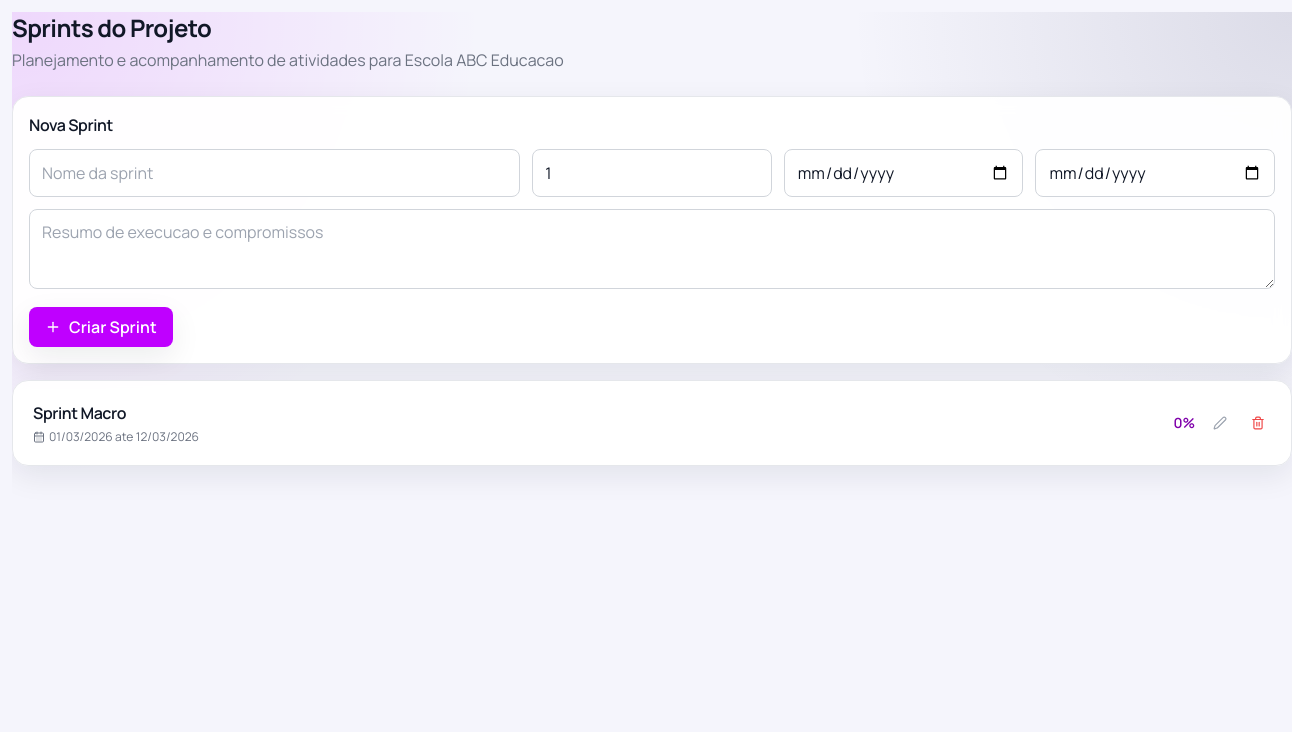
Sprints — visao macro › cria nova sprint ao preencher formulario (usuario interno)
The width and height of the screenshot is (1292, 732).
Type "Sprint Q2" into the field with placeholder "Nome da sprint" at (275, 173), box x1=29 y1=149 x2=520 y2=197
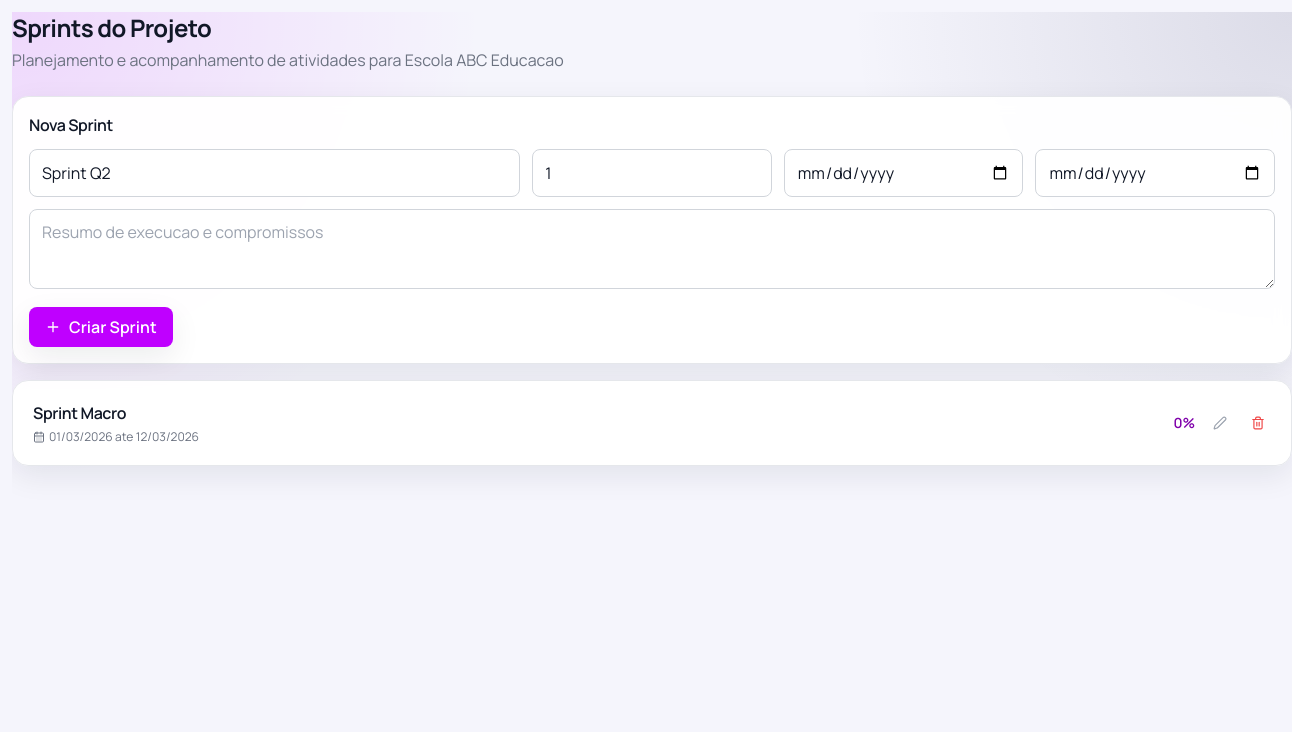
Click the button "Criar Sprint" at (101, 327), box x1=29 y1=307 x2=173 y2=347
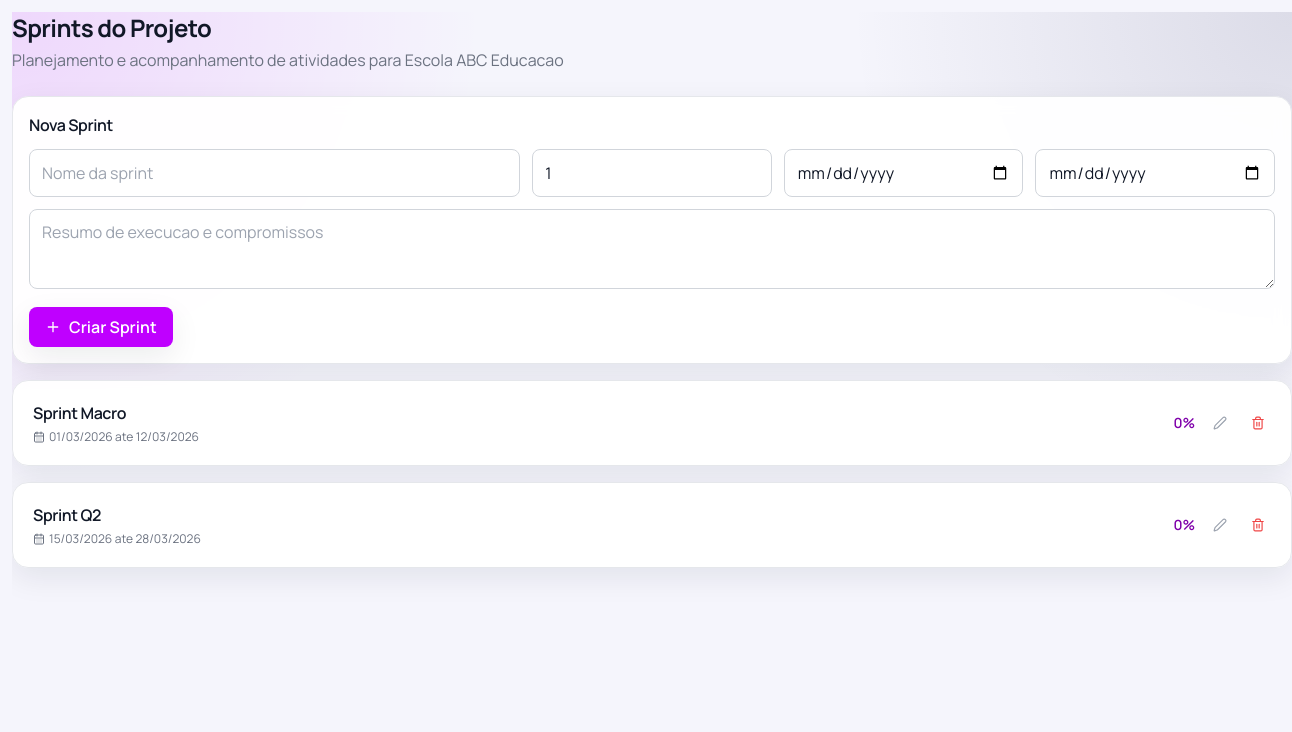
expect the heading "Sprint Q2" is shown: met, box x1=33 y1=504 x2=101 y2=526
